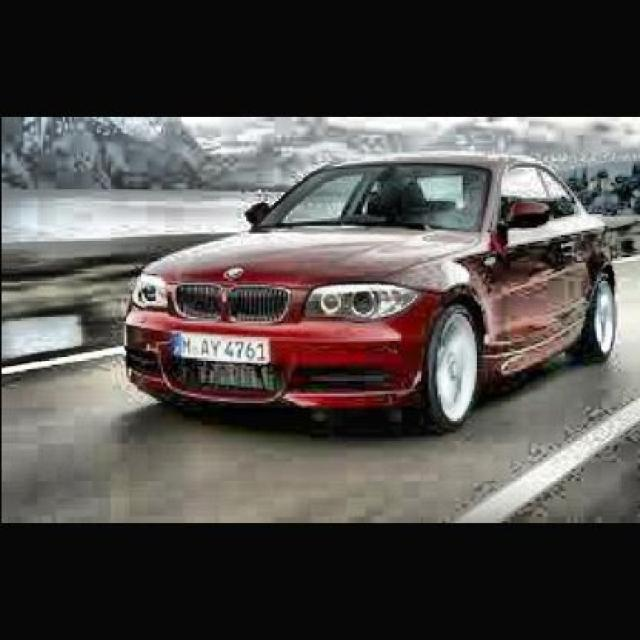maroon: (124, 160, 640, 436)
